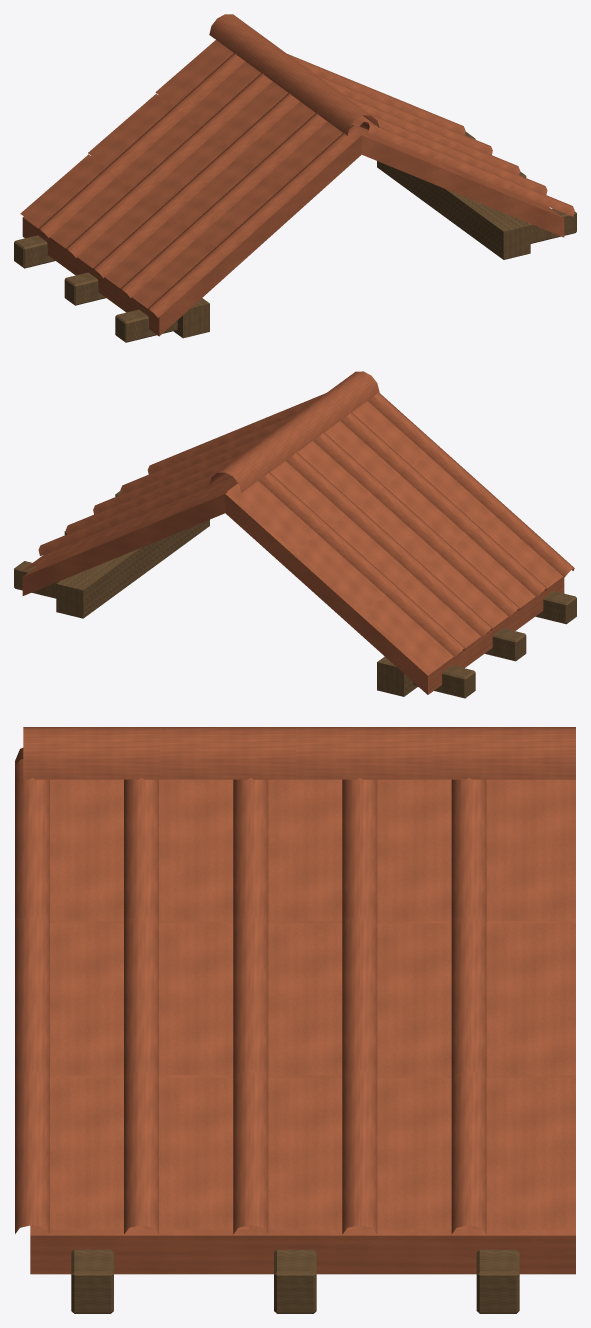
File: module-roof-tiled-bay.glb
3 views of the same model, one above another, from view 1: azimuth 30°, elevation 25°; view 2: azimuth 150°, elevation 25°; view 3: azimuth 270°, elevation 25° (orthographic). The views are drawn at different scales.
Visible parts, largest first — view 1: module-roof-tiled-bay; view 2: module-roof-tiled-bay; view 3: module-roof-tiled-bay.
Boxes of the visible parts, x1,y1,x2,y2 form: module-roof-tiled-bay: (14,14,576,342); module-roof-tiled-bay: (14,371,576,698); module-roof-tiled-bay: (15,727,575,1313).
Bounding box in the file's own units: 2.68 × 1.05 × 1.44.
1 material, 1 textured.
